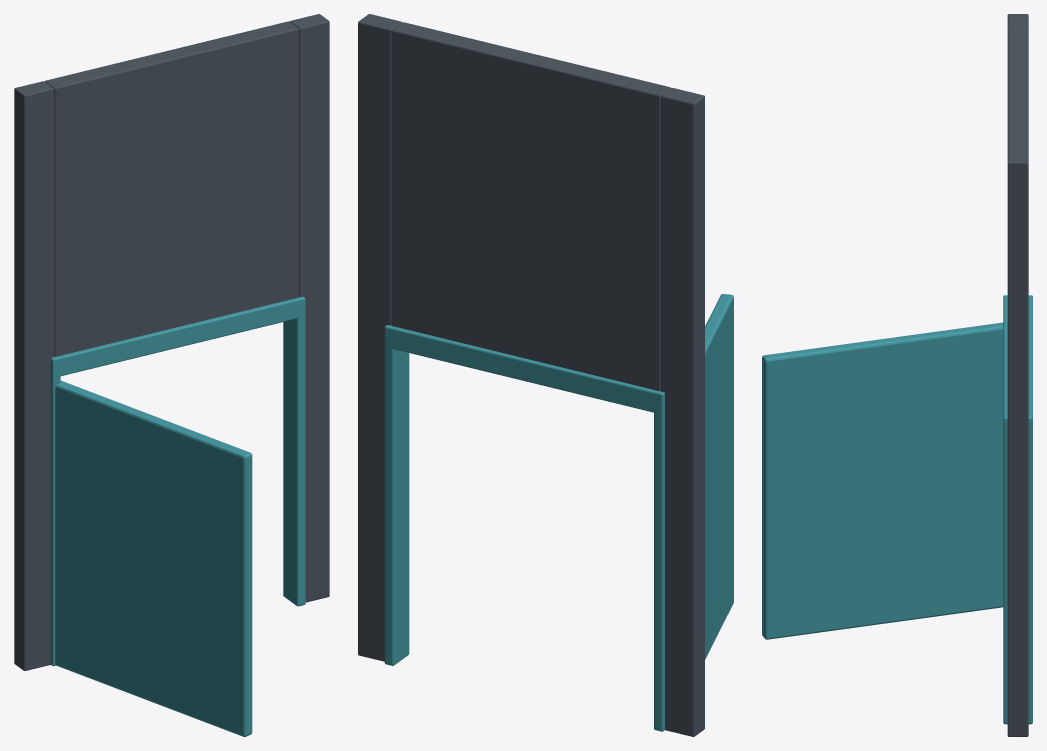
File: env_tower_wall_door_5m_top3d_v001.glb
3 views of the same model, side by side, from view 1: azimuth 30°, elevation 25°; view 2: azimuth 150°, elevation 25°; view 3: azimuth 270°, elevation 25° (orthographic). The views are drawn at different scales.
Visible parts, largest first — view 1: MOD_WALL_DOOR_5M_U01_Lintel, MOD_WALL_DOOR_5M_U01_DoorLeaf_OPEN, MOD_WALL_DOOR_5M_U01_Pier_L, MOD_WALL_DOOR_5M_U01_Pier_R, MOD_WALL_DOOR_5M_U01_Frame_R, MOD_WALL_DOOR_5M_U01_Frame_Top, MOD_WALL_DOOR_5M_U01_Frame_L; view 2: MOD_WALL_DOOR_5M_U01_Lintel, MOD_WALL_DOOR_5M_U01_Pier_L, MOD_WALL_DOOR_5M_U01_Pier_R, MOD_WALL_DOOR_5M_U01_DoorLeaf_OPEN, MOD_WALL_DOOR_5M_U01_Frame_R, MOD_WALL_DOOR_5M_U01_Frame_Top, MOD_WALL_DOOR_5M_U01_Frame_L; view 3: MOD_WALL_DOOR_5M_U01_DoorLeaf_OPEN, MOD_WALL_DOOR_5M_U01_Pier_R, MOD_WALL_DOOR_5M_U01_Frame_R, MOD_WALL_DOOR_5M_U01_Lintel, MOD_WALL_DOOR_5M_U01_Frame_Top.
Part boxes in pixels (bbox=[...]): MOD_WALL_DOOR_5M_U01_Lintel: bbox=[45, 21, 298, 356]; MOD_WALL_DOOR_5M_U01_DoorLeaf_OPEN: bbox=[55, 380, 252, 736]; MOD_WALL_DOOR_5M_U01_Pier_L: bbox=[14, 81, 54, 670]; MOD_WALL_DOOR_5M_U01_Pier_R: bbox=[289, 14, 329, 602]; MOD_WALL_DOOR_5M_U01_Frame_R: bbox=[283, 296, 305, 606]; MOD_WALL_DOOR_5M_U01_Frame_Top: bbox=[50, 297, 305, 376]; MOD_WALL_DOOR_5M_U01_Frame_L: bbox=[50, 357, 60, 666]; MOD_WALL_DOOR_5M_U01_Lintel: bbox=[391, 22, 670, 391]; MOD_WALL_DOOR_5M_U01_Pier_L: bbox=[661, 88, 704, 736]; MOD_WALL_DOOR_5M_U01_Pier_R: bbox=[358, 14, 401, 661]; MOD_WALL_DOOR_5M_U01_DoorLeaf_OPEN: bbox=[705, 294, 733, 659]; MOD_WALL_DOOR_5M_U01_Frame_R: bbox=[384, 325, 409, 665]; MOD_WALL_DOOR_5M_U01_Frame_Top: bbox=[384, 325, 664, 412]; MOD_WALL_DOOR_5M_U01_Frame_L: bbox=[654, 390, 664, 731]; MOD_WALL_DOOR_5M_U01_DoorLeaf_OPEN: bbox=[762, 322, 1003, 639]; MOD_WALL_DOOR_5M_U01_Pier_R: bbox=[1007, 148, 1028, 736]; MOD_WALL_DOOR_5M_U01_Frame_R: bbox=[1003, 414, 1032, 724]; MOD_WALL_DOOR_5M_U01_Lintel: bbox=[1007, 29, 1028, 148]; MOD_WALL_DOOR_5M_U01_Frame_Top: bbox=[1003, 296, 1032, 435].
Size of the model in its own units: 5 by 9 by 3.84.
